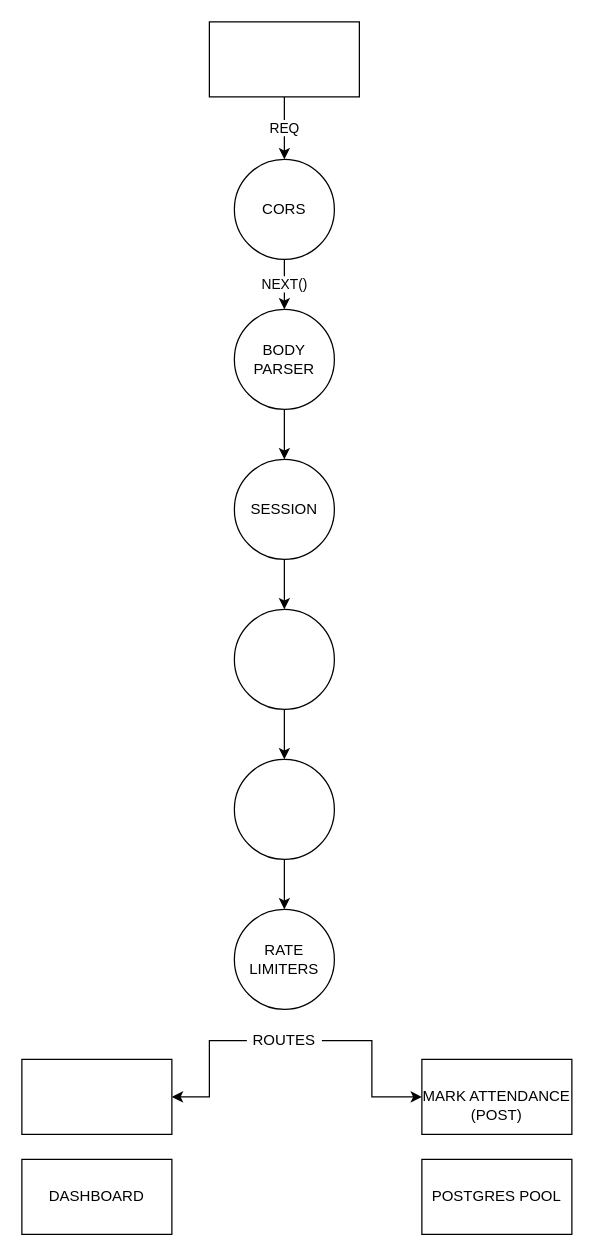
Image size: 594x1256. Some labels were removed from this diagram. Each missing label, with the centre of its shape:
"CLIENT" goes at point (283, 59).
"LOGIN" goes at point (96, 1096).
"PASSPORT INITIALIZATION" goes at point (283, 658).
"PASSPORT SESSION HANDLING" goes at point (283, 808).
